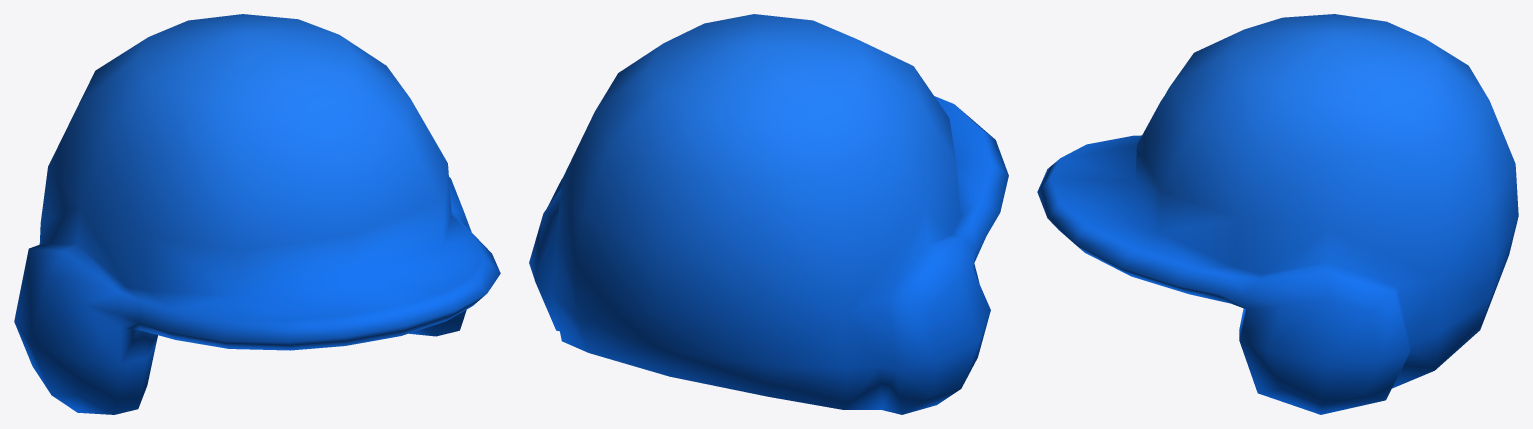
Rendered from Headgear_52.fbx.
3 renders of one model, left to right at view 1: azimuth 30°, elevation 25°; view 2: azimuth 150°, elevation 25°; view 3: azimuth 270°, elevation 25°, orthographic. The views are drawn at different scales.
Parts seen in each view (by area): view 1: Headgear_52; view 2: Headgear_52; view 3: Headgear_52.
Boxes of the visible parts, x1=… form: Headgear_52: x1=14, y1=14, x2=500, y2=414; Headgear_52: x1=529, y1=14, x2=1008, y2=414; Headgear_52: x1=1037, y1=14, x2=1518, y2=414.
Bounding box in the file's own units: 96.59 × 68.98 × 99.89.
